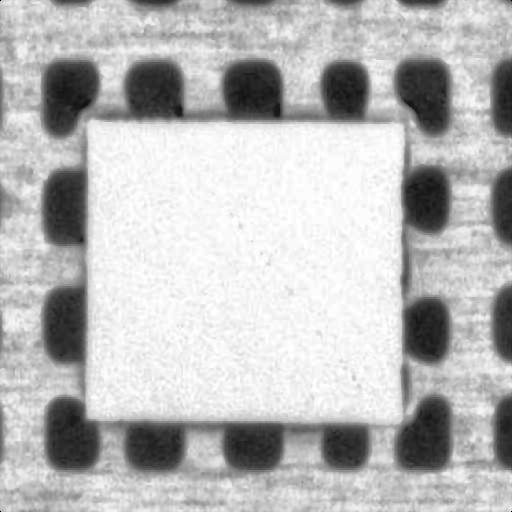DIE_CRACK: (294, 151, 478, 291)
